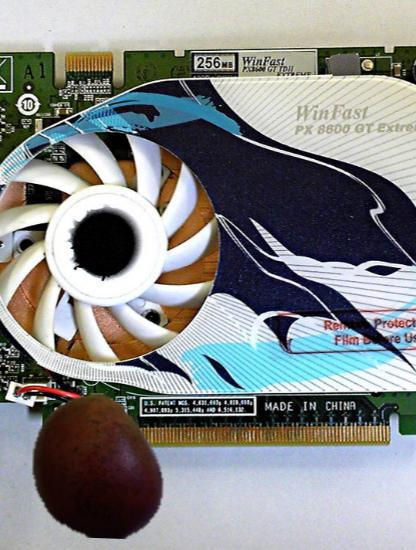Mango: (25, 393, 170, 538)
